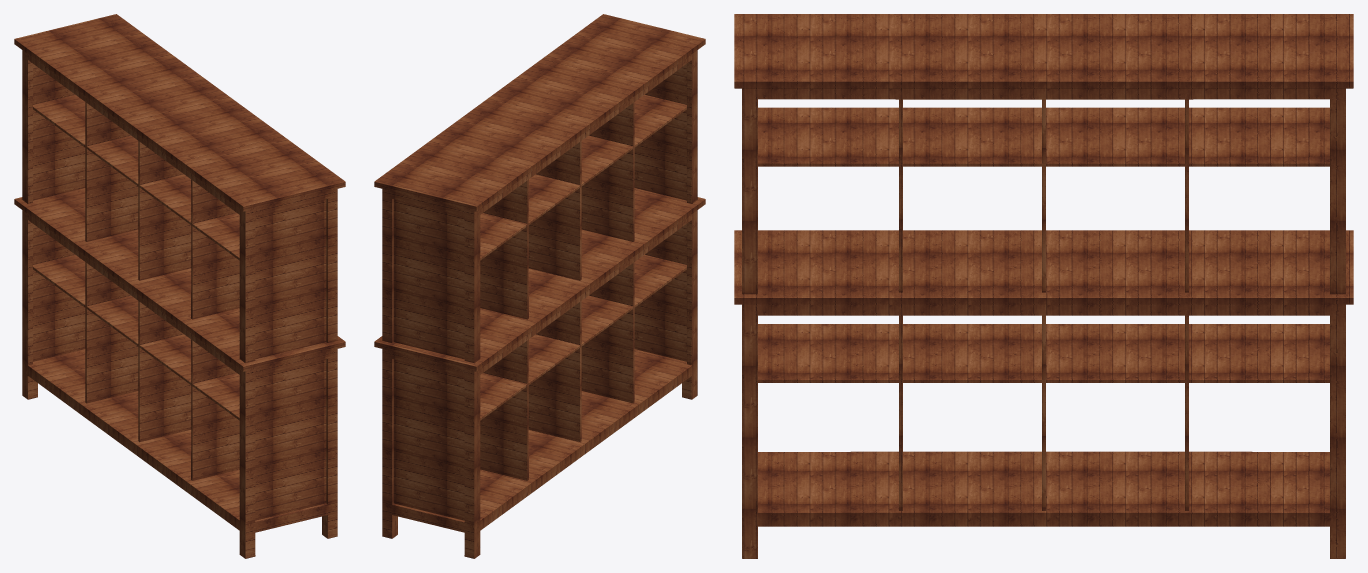
Rendered from estante_cosas.obj.
The picture shows the model from 3 angles, left to right: view 1: azimuth 30°, elevation 25°; view 2: azimuth 150°, elevation 25°; view 3: azimuth 270°, elevation 25°; orthographic projection. The views are drawn at different scales.
Visible parts, largest first — view 1: estante_cosas; view 2: estante_cosas; view 3: estante_cosas.
Part boxes in pixels (x1,y1,x2,y2): estante_cosas: [14, 14, 345, 558]; estante_cosas: [374, 14, 705, 558]; estante_cosas: [734, 14, 1353, 558].
Size of the model in its own units: 15.96 by 52.94 by 61.81.
Materials: 1 (1 with a texture image).
